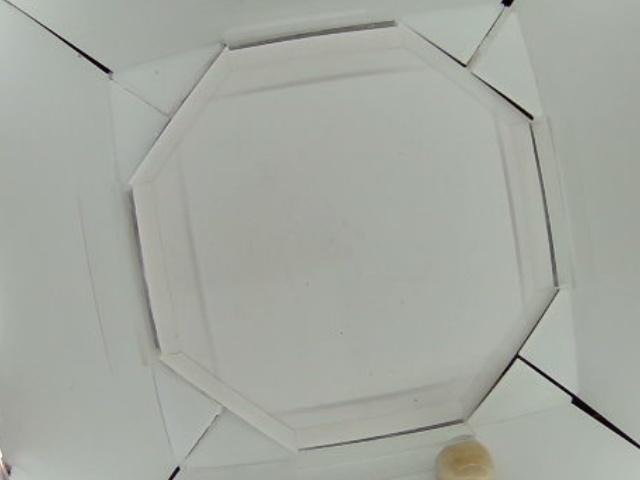Pebble: (434, 440, 495, 480)
